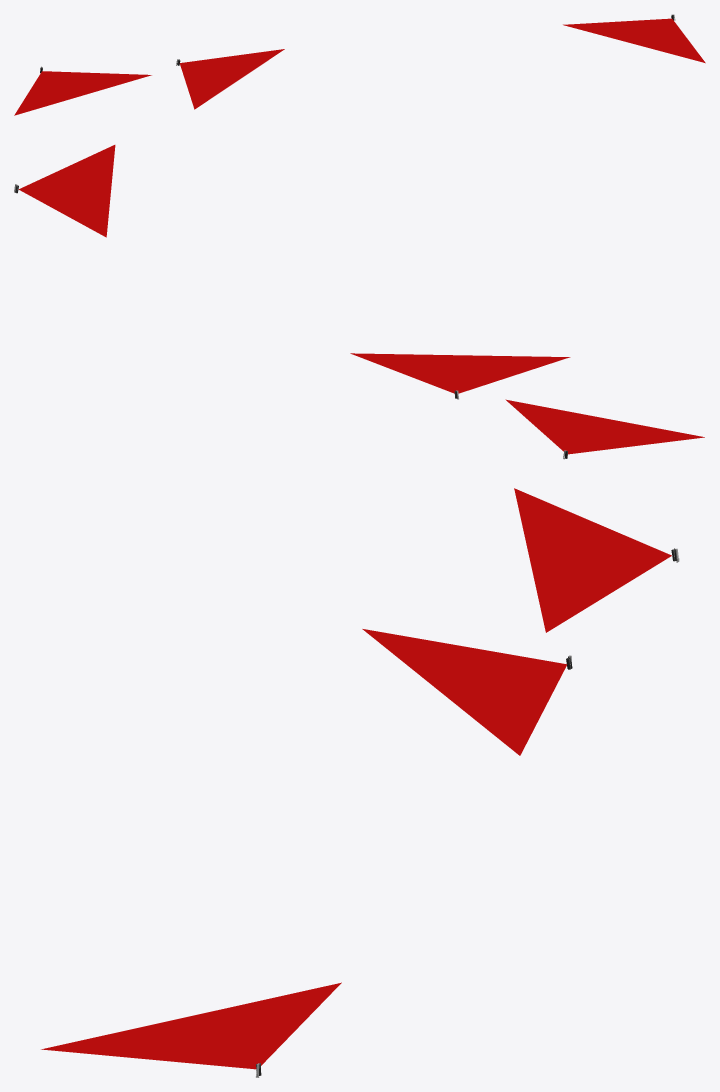
File: venue_vo01_souind.fbx
3 renders of one model, top to bottom at view 1: azimuth 30°, elevation 25°; view 2: azimuth 150°, elevation 25°; view 3: azimuth 270°, elevation 25°, orthographic. The views are drawn at different scales.
Parts seen in each view (by area): view 1: Group8, Group4, Group12; view 2: Group12, Group4, Group8; view 3: Group12, Group8, Group4.
Part boxes in pixels (bbox=[...]): Group8: bbox=[563, 18, 705, 63]; Group4: bbox=[179, 49, 284, 109]; Group12: bbox=[14, 71, 151, 115]; Group12: bbox=[505, 399, 704, 454]; Group4: bbox=[350, 353, 570, 393]; Group8: bbox=[18, 145, 115, 237]; Group12: bbox=[514, 488, 671, 632]; Group8: bbox=[41, 982, 341, 1069]; Group4: bbox=[362, 629, 567, 755].
Size of the model in its own units: 48.77 by 0.4919 by 22.6.
